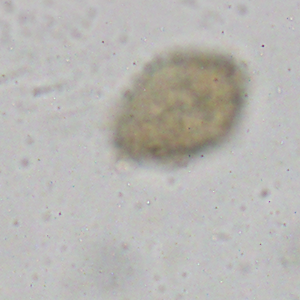Fasciola_hepatica_egg: (110, 47, 246, 160)
